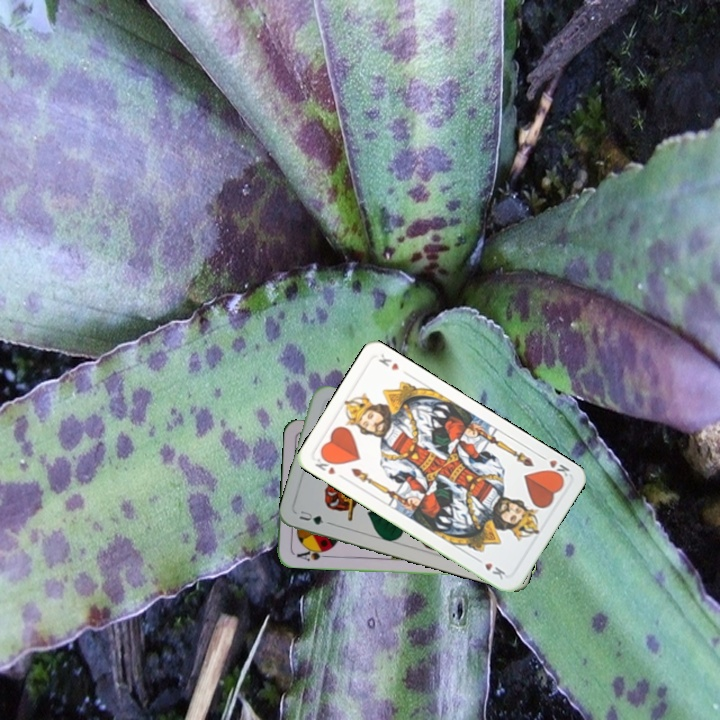GU: (295, 506, 333, 527)
HK: (536, 451, 572, 483), (311, 451, 339, 477)
SA: (293, 544, 332, 564)
